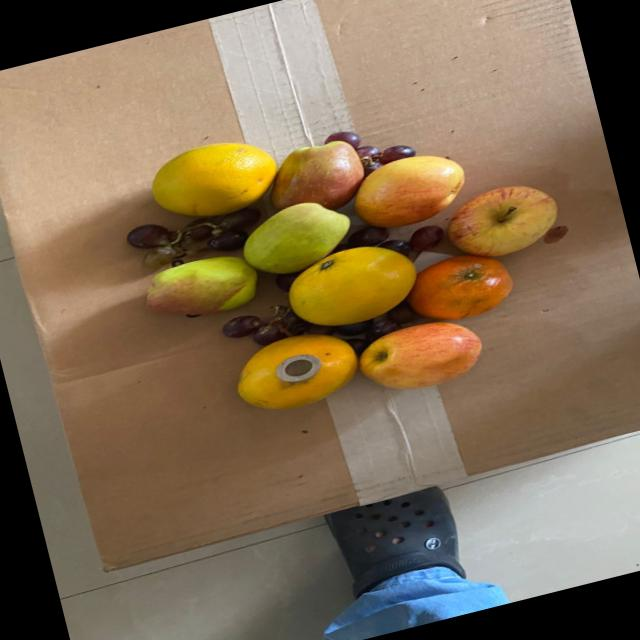moneda: (277, 354, 326, 389)
